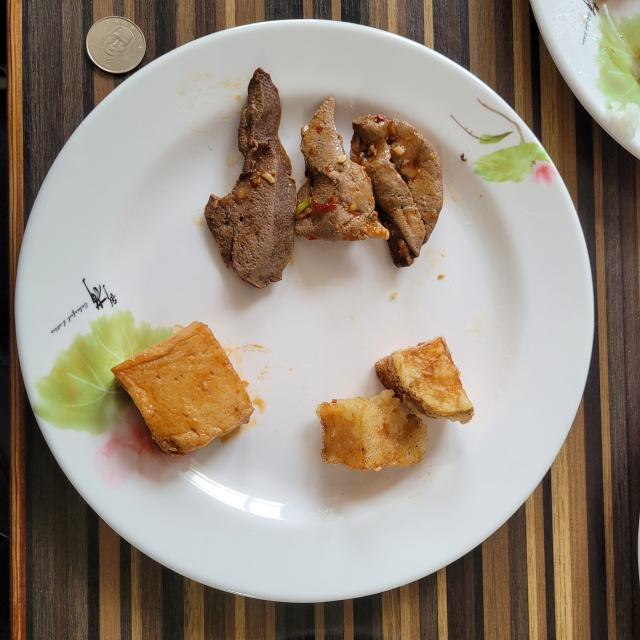coin: (86, 16, 145, 74)
creamy tofu: (111, 321, 254, 456)
fried potato: (316, 336, 474, 471)
pig liver: (205, 69, 442, 288)
